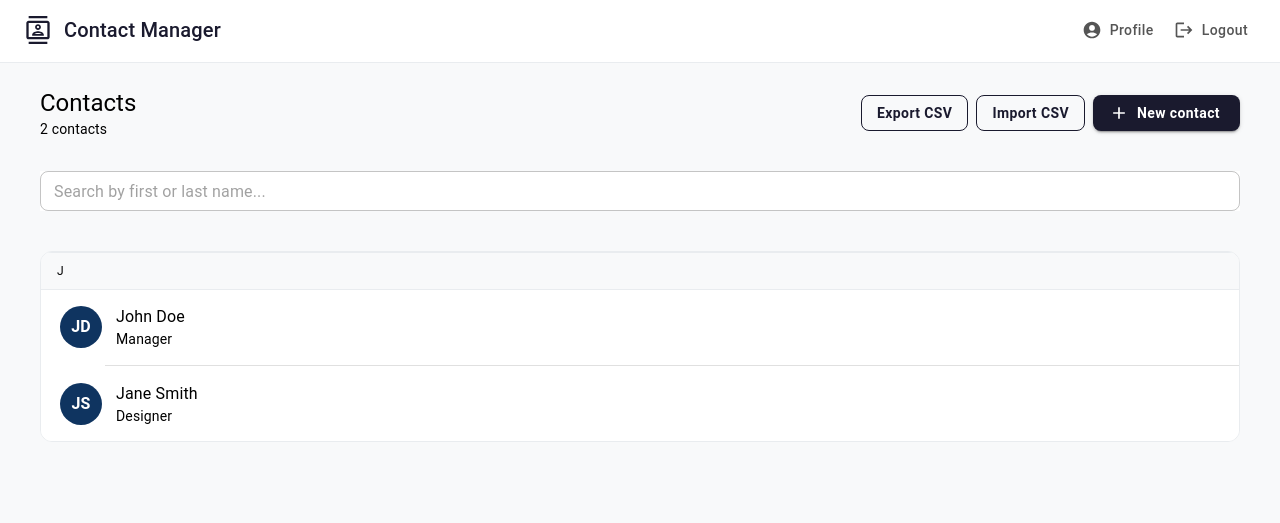
Test: Contacts Page › shows search error gracefully
Expected: the text "John Doe" is shown, [116, 307, 185, 326]
Type "xyz" into the field with placeholder "Search by first or last name..." at coordinates (640, 191), box [40, 171, 1240, 211]
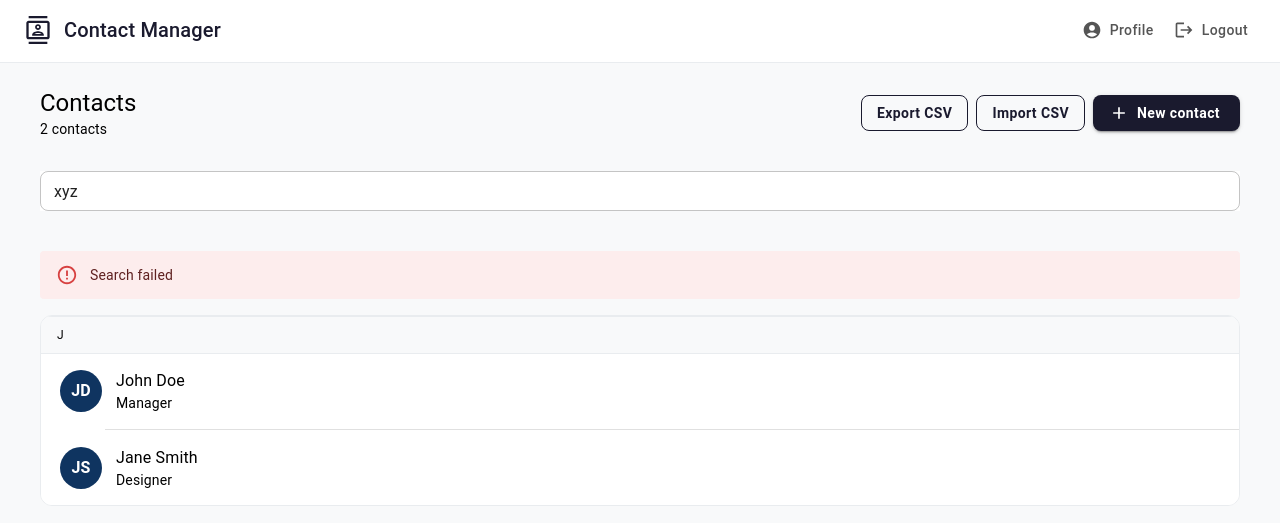
Expected: the text "Search failed" is shown, [90, 267, 173, 283]
